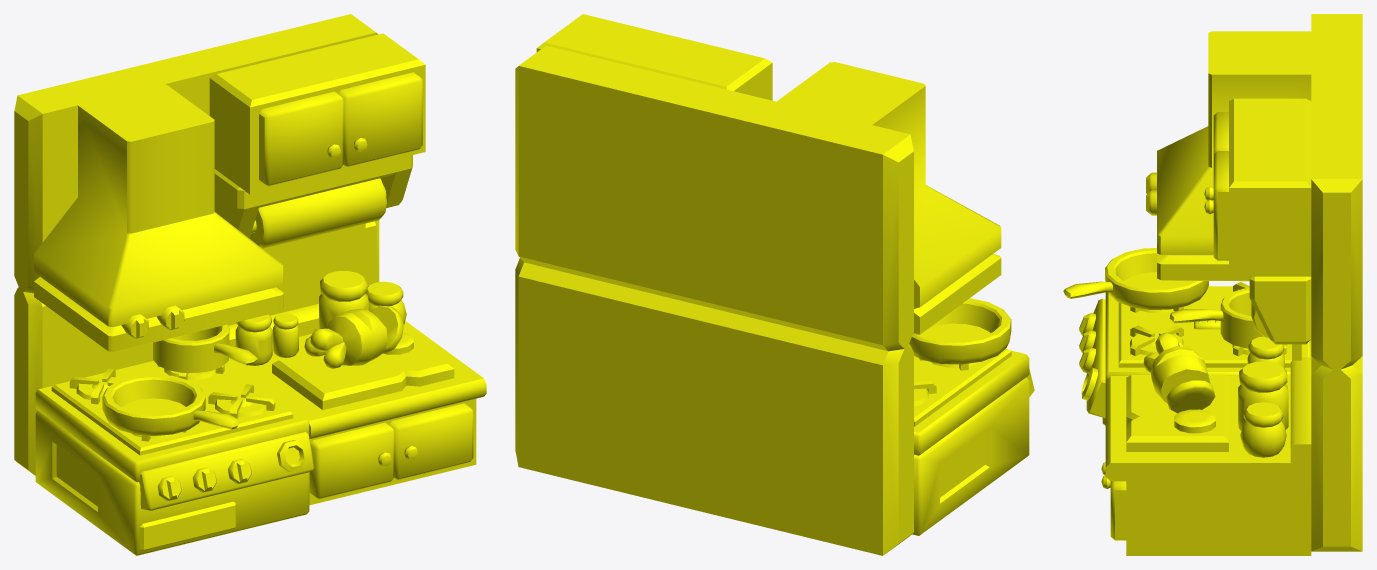
File: wall_decorated.gltf
The picture shows the model from 3 angles, left to right: view 1: azimuth 30°, elevation 25°; view 2: azimuth 150°, elevation 25°; view 3: azimuth 270°, elevation 25°; orthographic projection. The views are drawn at different scales.
Parts seen in each view (by area): view 1: wall_decorated; view 2: wall_decorated; view 3: wall_decorated.
Boxes of the visible parts, <box> form: wall_decorated: <box>14,14,486,555</box>; wall_decorated: <box>515,14,1034,555</box>; wall_decorated: <box>1063,14,1362,555</box>.
Bounding box in the file's own units: 4.01 × 4 × 2.91.
1 material, 1 textured.
